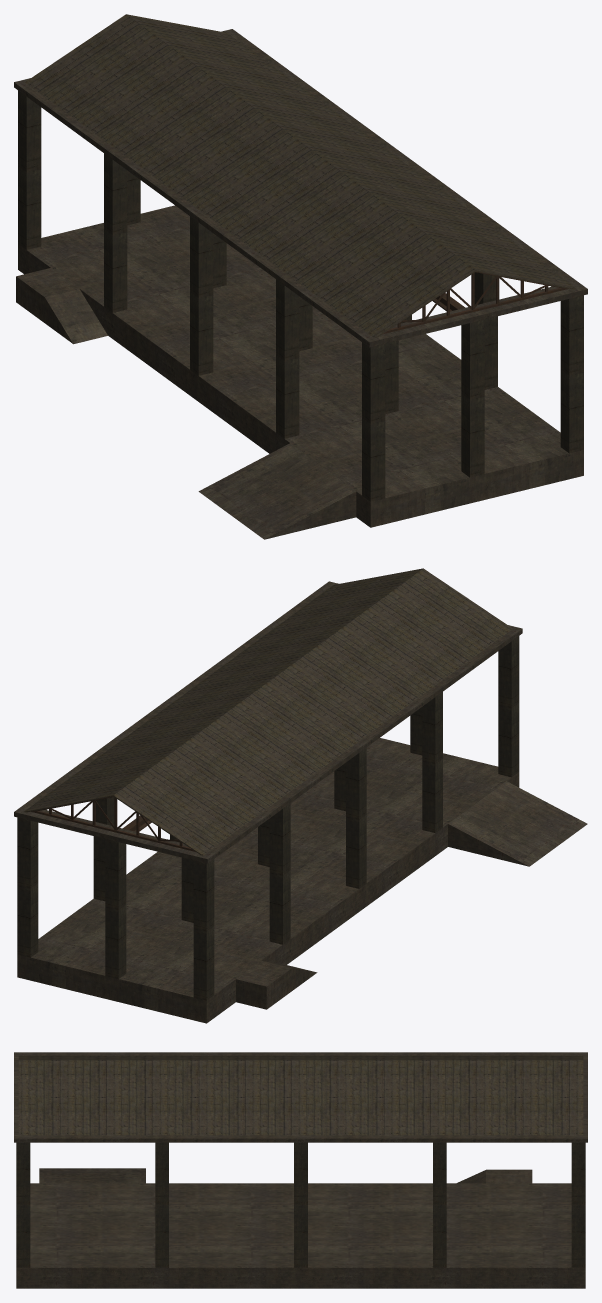
The model's file is warehouse_mx_4_1.glb.
The picture shows the model from 3 angles, top to bottom: view 1: azimuth 30°, elevation 25°; view 2: azimuth 150°, elevation 25°; view 3: azimuth 270°, elevation 25°; orthographic projection. The views are drawn at different scales.
Visible parts, largest first — view 1: warehouse_mx_4_1; view 2: warehouse_mx_4_1; view 3: warehouse_mx_4_1.
Boxes of the visible parts, bbox=[...] form: warehouse_mx_4_1: bbox=[14, 14, 587, 539]; warehouse_mx_4_1: bbox=[14, 568, 587, 1023]; warehouse_mx_4_1: bbox=[14, 1052, 587, 1288].
Size of the model in its own units: 12.4 by 8.87 by 24.8.
4 materials, 4 textured.
